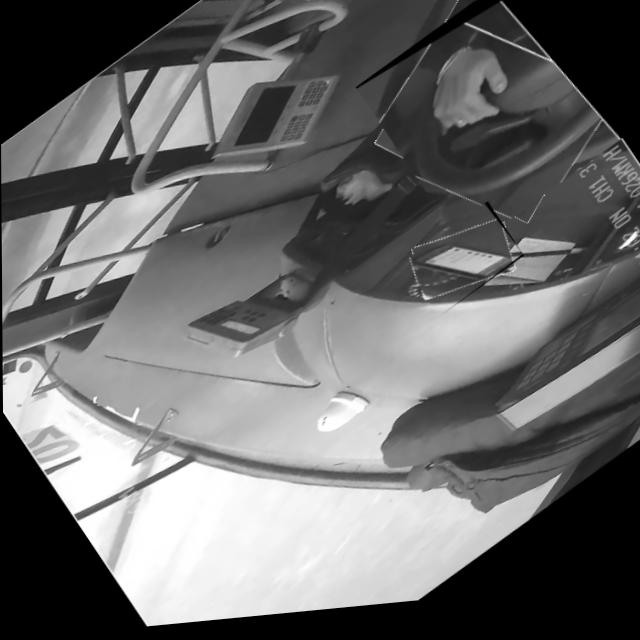phone: (401, 207, 523, 327)
wheel: (354, 0, 622, 268)
